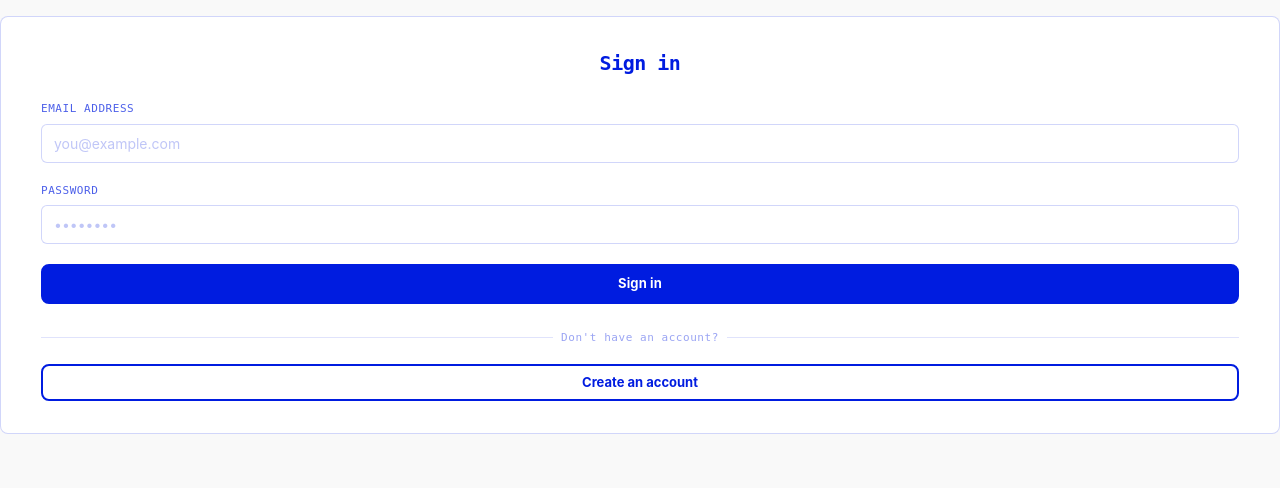
Test case: LoginPage › Validation › shows error when email is empty
Click the button "Sign in".
click(640, 284)  # box [41,264,1239,304]
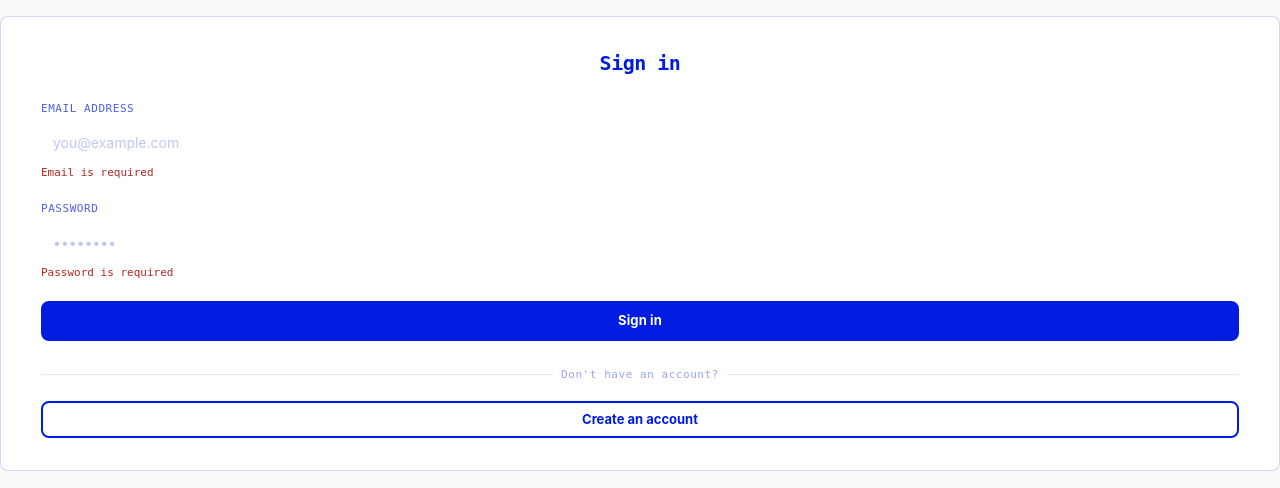
Expected: the text "Email is required" is shown, [41,166,154,178]
